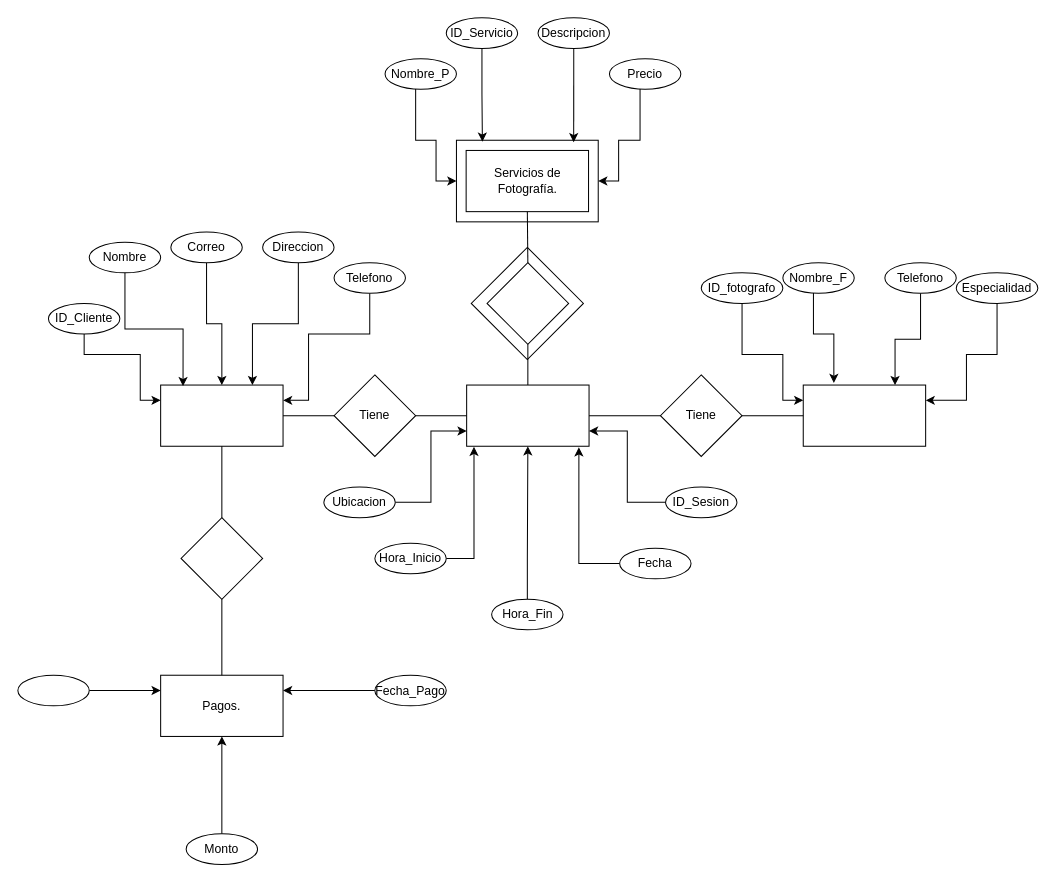
This 1056x882 diagram has some shape labels left out. Each missing label, with the centre of its shape:
Cliente: [221,415]
Fotógrafo.: [864,415]
ID_Pago: [53,690]
Puede: [527,303]
Realiza: [221,558]
Sesión Fotográfica.: [527,415]
